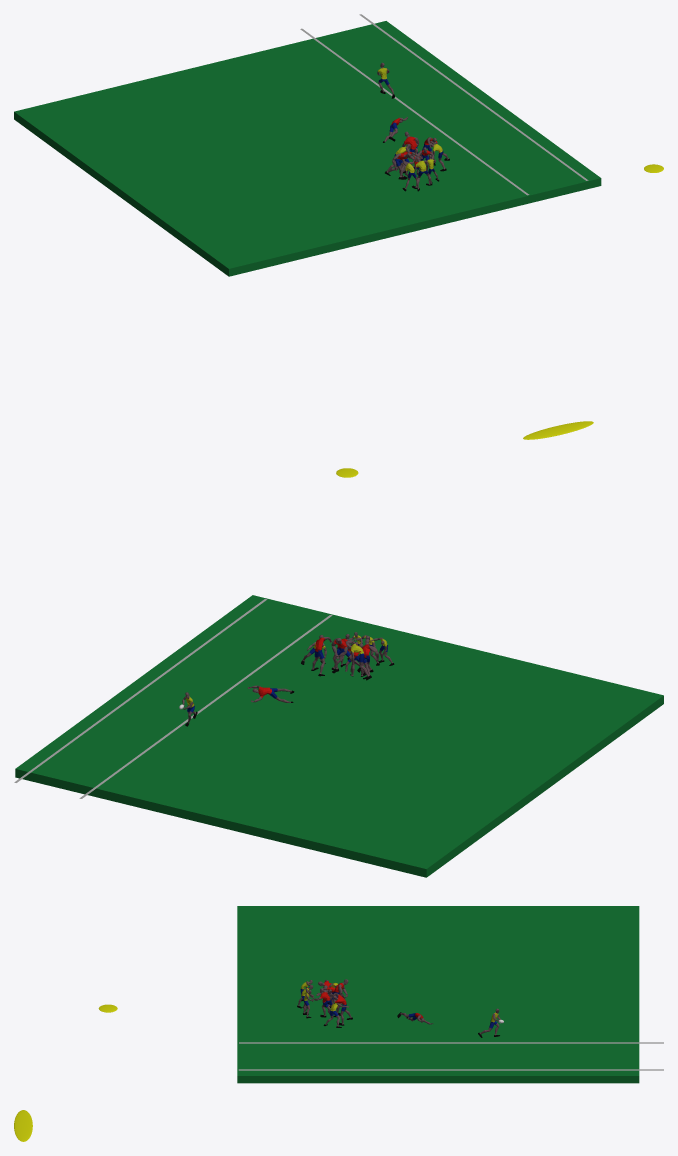
3 views of the same model, one above another, from view 1: azimuth 30°, elevation 25°; view 2: azimuth 150°, elevation 25°; view 3: azimuth 270°, elevation 25° (orthographic). The views are drawn at different scales.
Parts seen in each view (by area): view 1: Plane; view 2: Plane; view 3: Plane, Sphere.001.
Part boxes in pixels (left/top/right/bottom): Plane: left=14, top=14, right=601, bottom=276; Plane: left=14, top=595, right=663, bottom=877; Plane: left=237, top=906, right=663, bottom=1083; Sphere.001: left=14, top=1110, right=32, bottom=1141.
Bounding box in the file's own units: 42.56 × 21.39 × 68.81.
